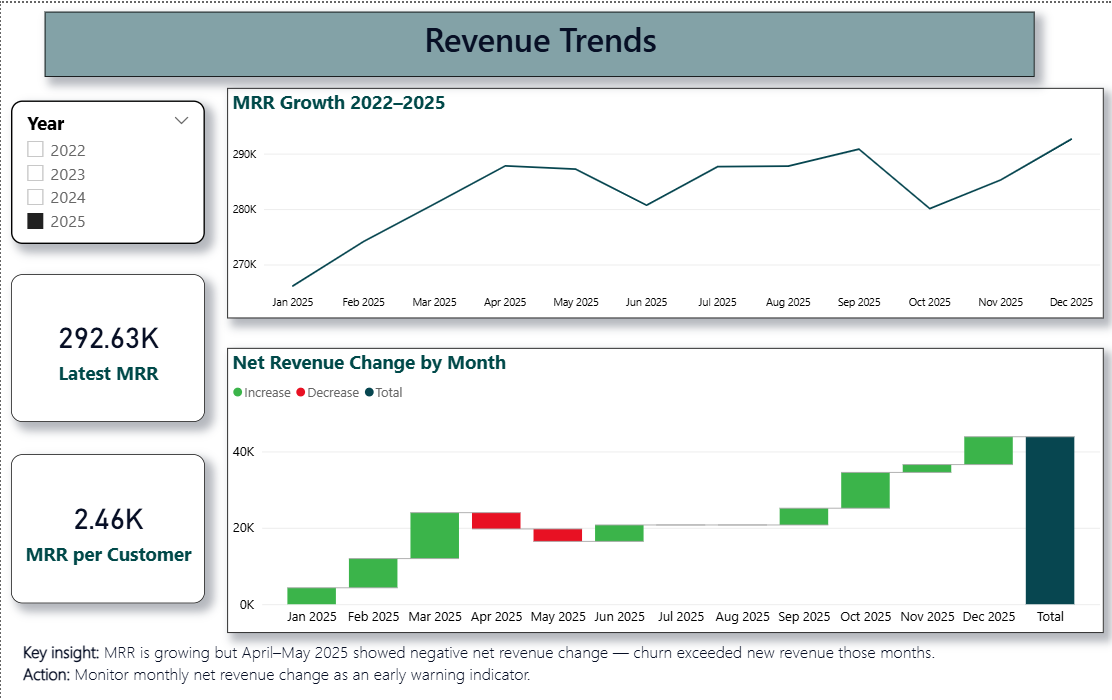

What the dashboard file says about the page in this screenshot:
{"tool":"powerbi","page":{"name":"Revenue Trends","canvas":[1280,800],"ordinal":2},"visuals":[{"type":"card","fields":{"Values":["monthly_revenue(1).Latest MRR"]},"box":[11.4,310,221.4,168.6],"z":0},{"type":"lineChart","title":"MRR Growth 2022–2025","fields":{"Category":["DimDate.Month Year"],"Y":["Sum(monthly_revenue(1).total_mrr)"]},"box":[258.6,97.1,1001.4,262.9],"z":1000},{"type":"waterfallChart","title":"Net Revenue Change by Month","fields":{"Category":["DimDate.Month Year"],"Y":["monthly_revenue(1).Net Revenue Change"]},"box":[258.6,394.3,1001.4,325.7],"z":2000},{"type":"slicer","fields":{"Values":["DimDate.Year"]},"box":[11.4,111.4,221.4,164.3],"z":3000},{"type":"card","fields":{"Values":["subscriptions.MRR per Customer"]},"box":[11.4,515.7,221.4,170],"z":4000},{"type":"textbox","box":[20,724.3,1097.1,75.7],"z":4001},{"type":"textbox","box":[50,10,1131.4,74.3],"z":4002}]}

Visuals, with their boxes in screenshot pixels (x1, y1, x2, y2), scaled from the page's 1280x800 canvas onto the 1112x700 screenshot:
card - monthly_revenue(1).Latest MRR: 10, 271, 202, 419
"MRR Growth 2022–2025" lineChart: 225, 85, 1095, 315
"Net Revenue Change by Month" waterfallChart: 225, 345, 1095, 630
slicer - DimDate.Year: 10, 97, 202, 241
card - subscriptions.MRR per Customer: 10, 451, 202, 600
textbox: 17, 634, 970, 699
textbox: 43, 9, 1026, 74
